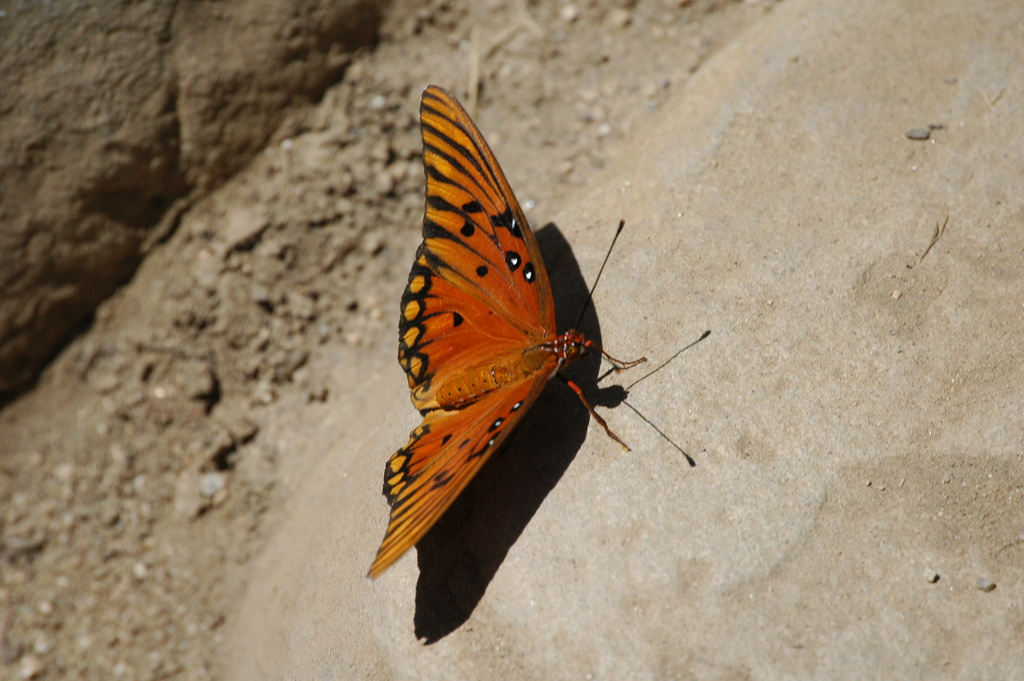Butterfly: (368, 66, 620, 601)
